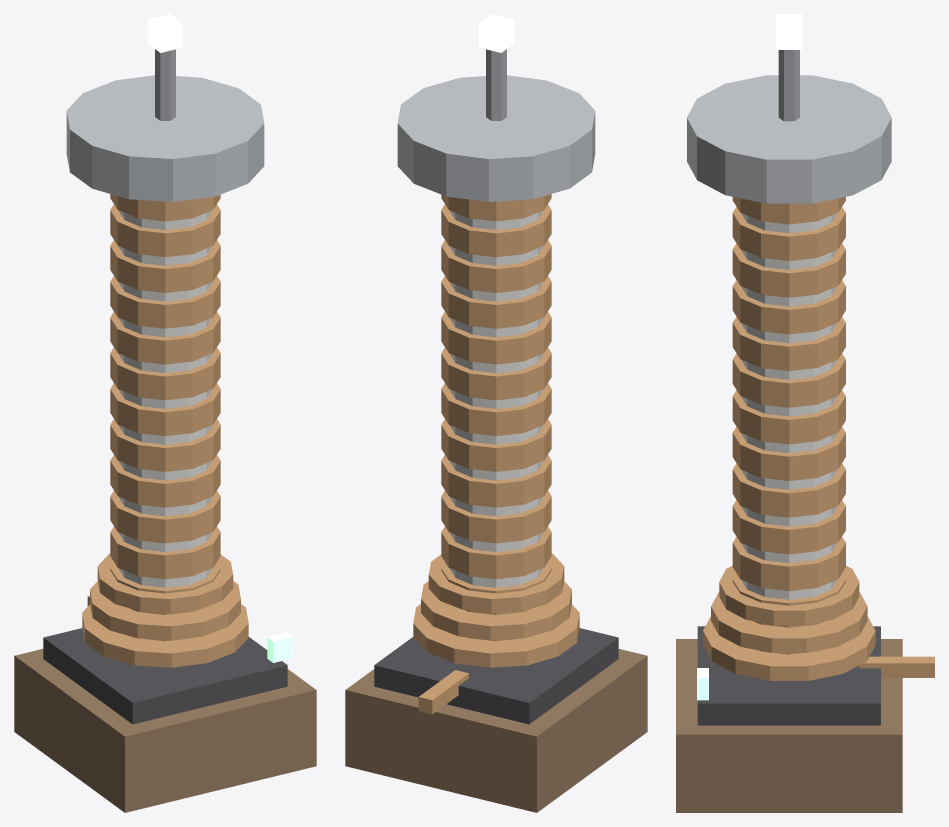
File: tesla_coil.glb
The picture shows the model from 3 angles, left to right: view 1: azimuth 30°, elevation 25°; view 2: azimuth 150°, elevation 25°; view 3: azimuth 270°, elevation 25°; orthographic projection. The views are drawn at different scales.
Parts seen in each view (by area): view 1: tesla_coil; view 2: tesla_coil; view 3: tesla_coil.
Part boxes in pixels (x1=…): tesla_coil: x1=14, y1=14, x2=316, y2=812; tesla_coil: x1=345, y1=14, x2=647, y2=812; tesla_coil: x1=676, y1=14, x2=934, y2=812.
Bounding box in the file's own units: 0.42 × 1.52 × 0.48.
